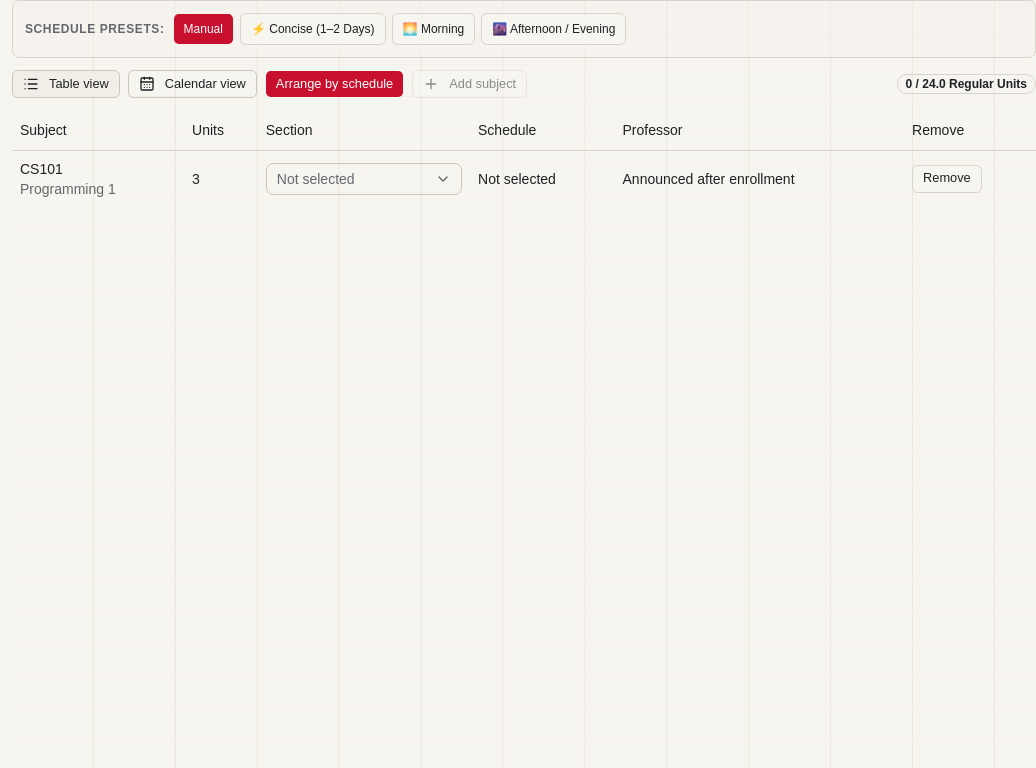
EligibleSubjectTable › brings every removed subject back into view via Show all
Click the button with aria-label "Remove CS101". click: click(947, 178)
box: [912,164,982,192]
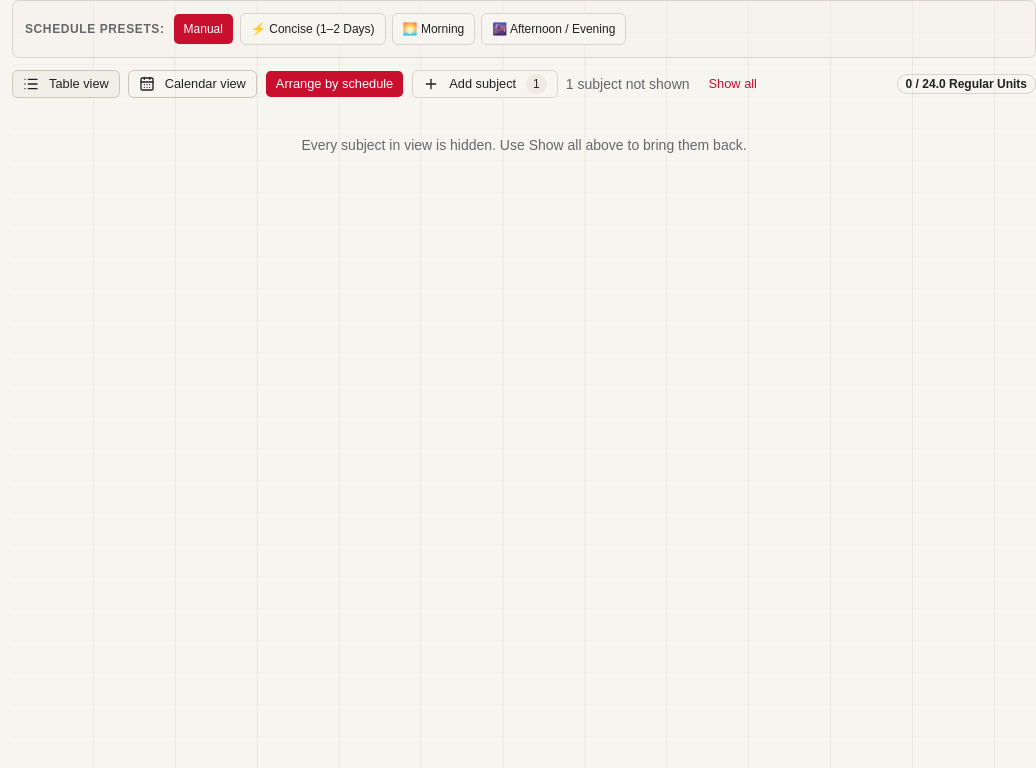
expect the text "CS101" is gone: met
Click the button "Show all". click: click(733, 84)
box: [698,70,768,98]
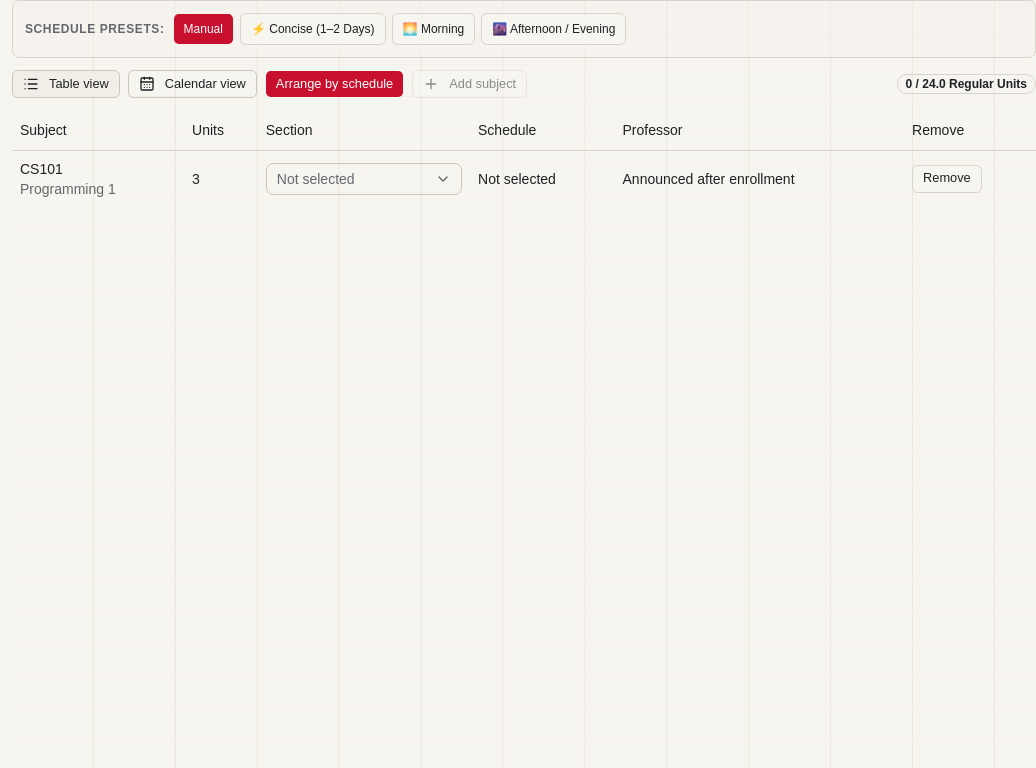
expect the text "CS101" is shown: met, box [20,158,63,178]
